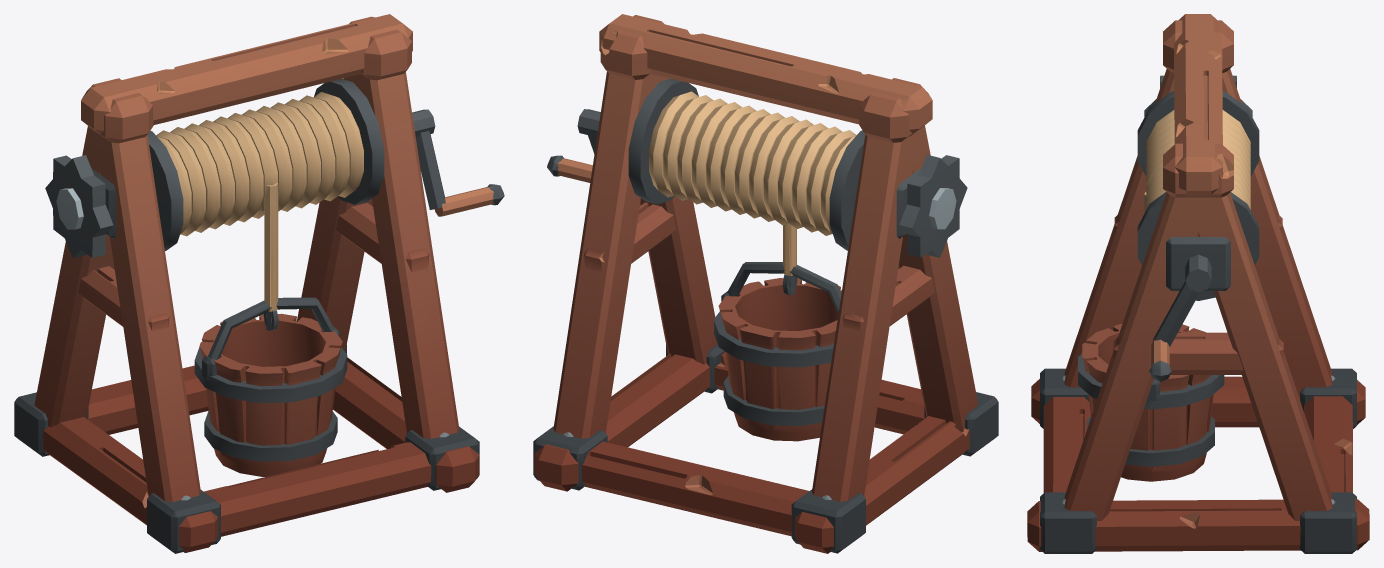
Rendered from winch.glb.
3 renders of one model, left to right at view 1: azimuth 30°, elevation 25°; view 2: azimuth 150°, elevation 25°; view 3: azimuth 270°, elevation 25°, orthographic.
Parts seen in each view (by area): view 1: winch; view 2: winch; view 3: winch.
Part boxes in pixels (x1,y1,x2,y2): winch: (14, 14, 504, 553); winch: (533, 14, 998, 553); winch: (1027, 14, 1369, 553).
Size of the model in its own units: 1.74 by 1.63 by 1.26.
1 material, 1 textured.
